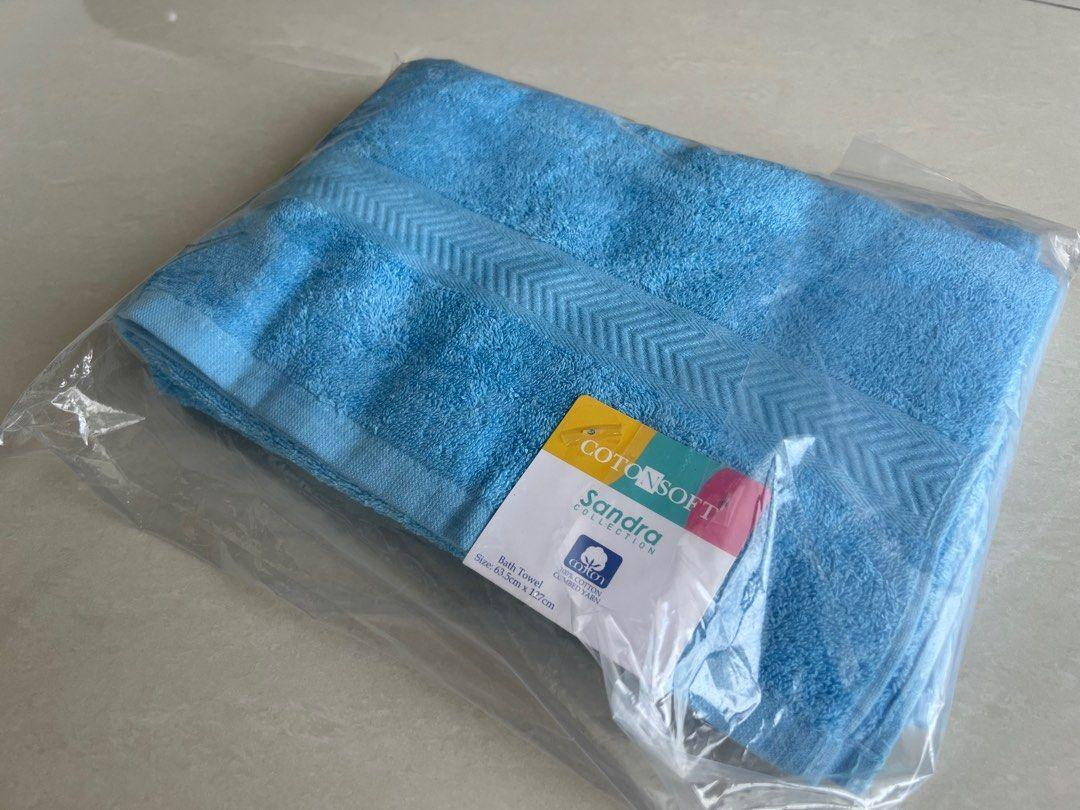towel: (148, 8, 1050, 796)
